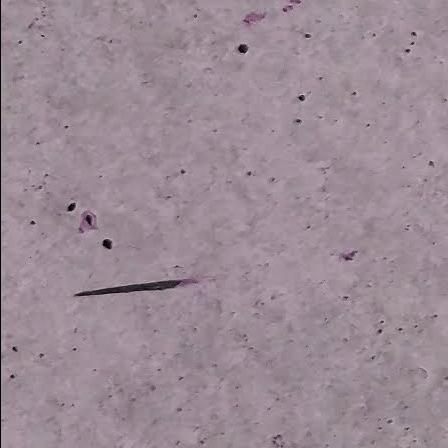hole: (99, 237, 113, 251), (65, 203, 76, 212)
spalling: (70, 208, 101, 236)
